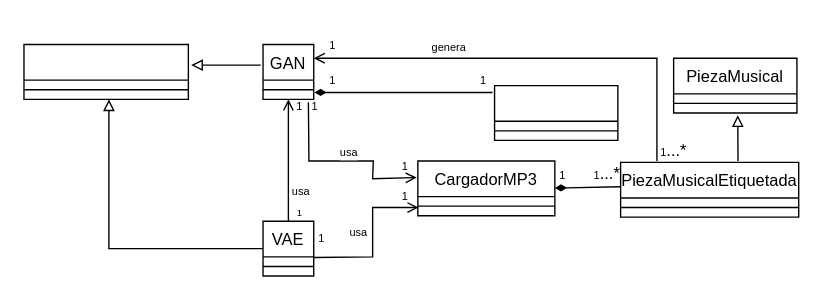
The diagram is 823 pixels wide and 300 high, and some of its shapes have lost their labels. Each missing label, with the centre of its shape:
"ModeloGeneradorIA" belongs at pixel 105 71.
"Transformer" belongs at pixel 555 112.
